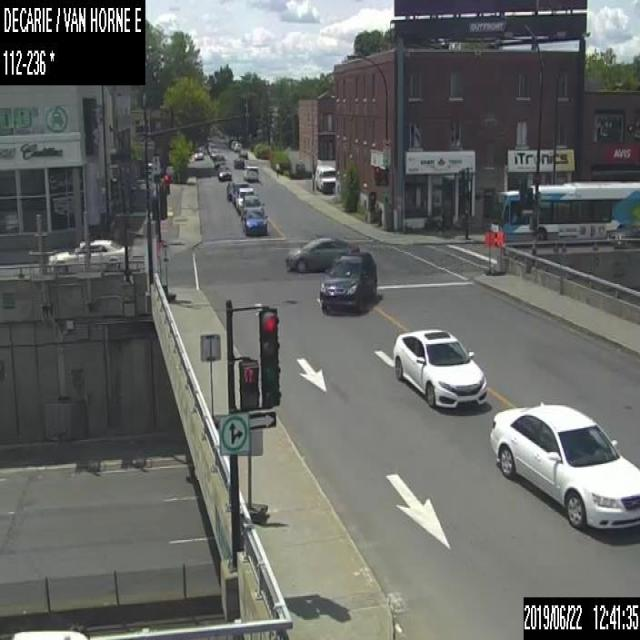bus: (489, 182, 639, 248)
construction: (198, 331, 227, 427), (245, 427, 267, 521), (494, 231, 504, 275), (486, 231, 494, 275)
pedestrian: (275, 161, 281, 179)
vehicle: (487, 402, 639, 530), (392, 326, 487, 410), (320, 252, 377, 314), (284, 235, 360, 273), (46, 237, 126, 273), (241, 206, 266, 234), (314, 164, 335, 194), (234, 186, 254, 211), (240, 193, 264, 213), (230, 180, 248, 203), (242, 164, 258, 182), (217, 164, 231, 181), (214, 153, 225, 168), (233, 157, 244, 168), (225, 181, 231, 201), (192, 148, 202, 159), (238, 148, 247, 158), (211, 148, 220, 158), (233, 142, 241, 151), (230, 140, 238, 148)
